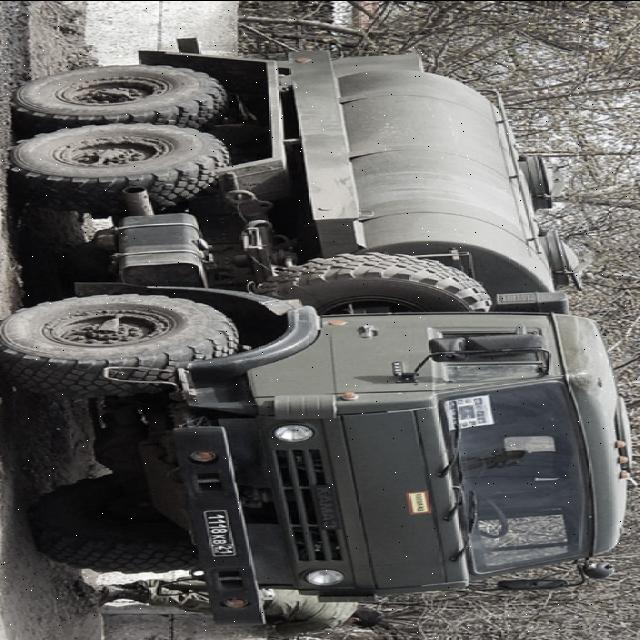TRUCK: (2, 34, 632, 624)
